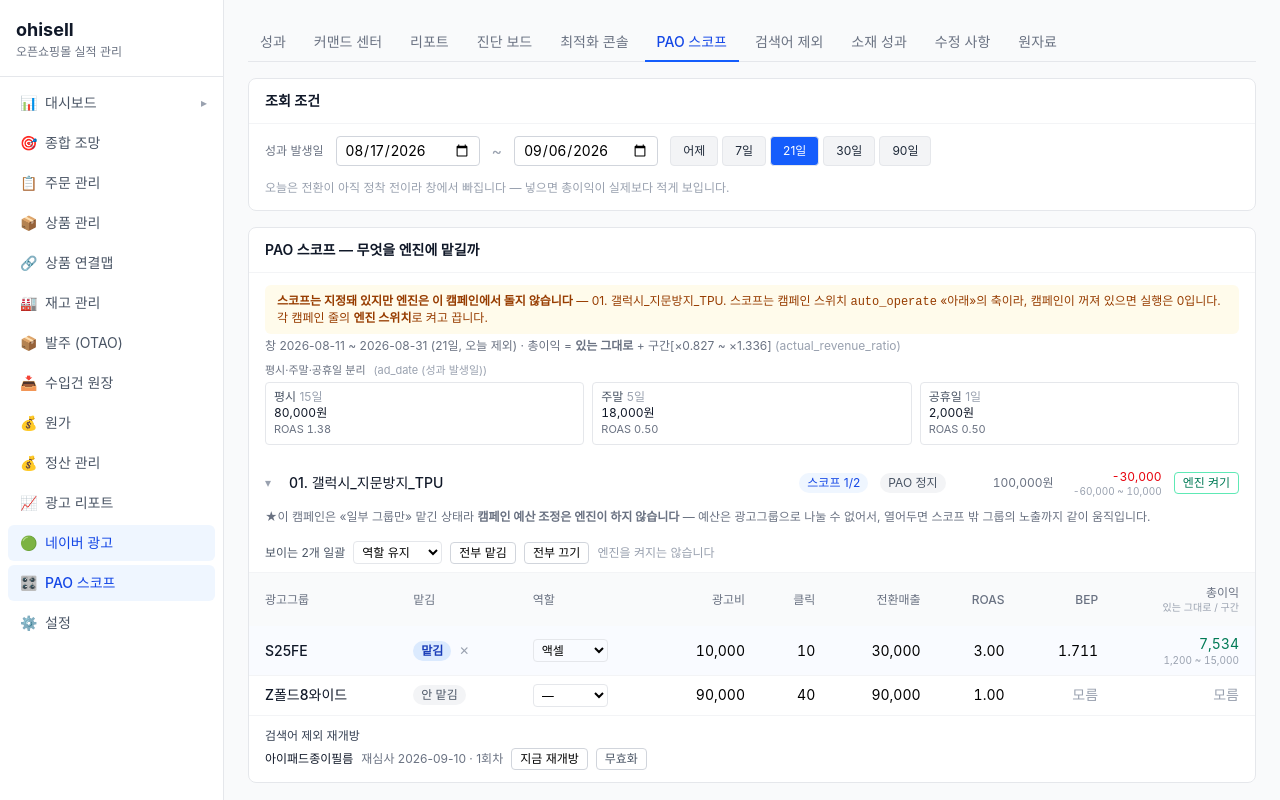
Scenario: void — 원장 무효화 손이 사람에게 닿는다 › 빈 사유는 서버로 보내지 않는다
The width and height of the screenshot is (1280, 800).
Step 1. Click the button "무효화" → coordinates (621, 759), box [596, 748, 647, 770]
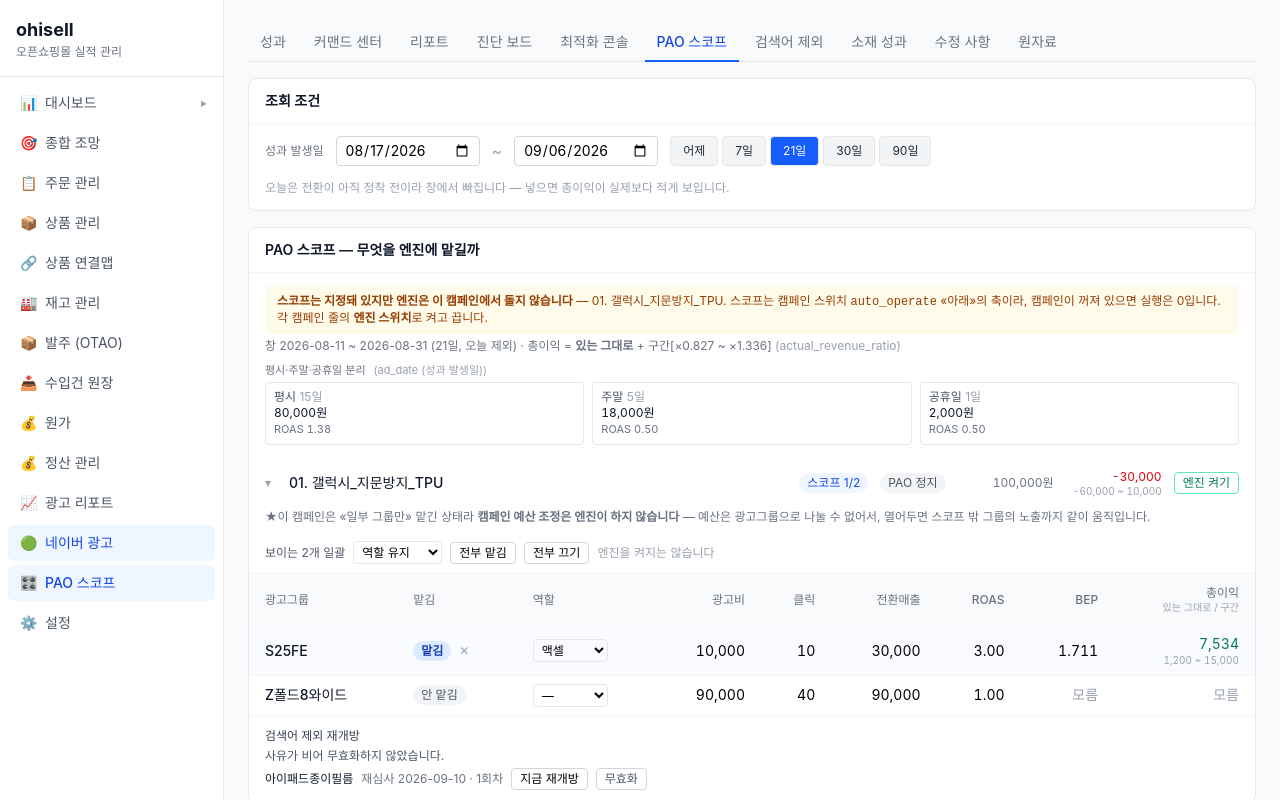
Check: the text "사유가 비어 무효화하지 않았습니다." is shown, box [265, 748, 444, 763]
